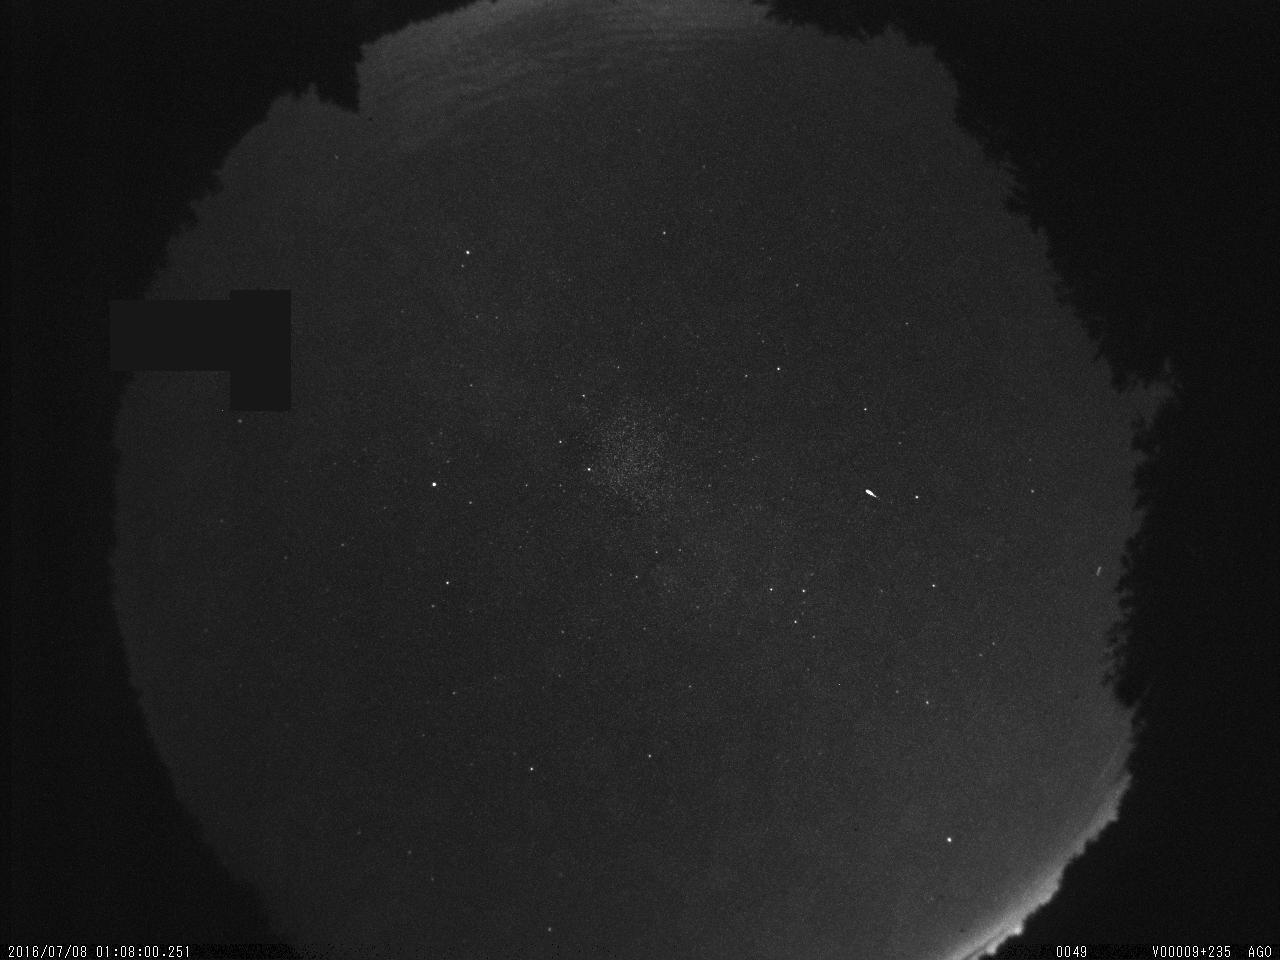meteor: (857, 482, 887, 505)
